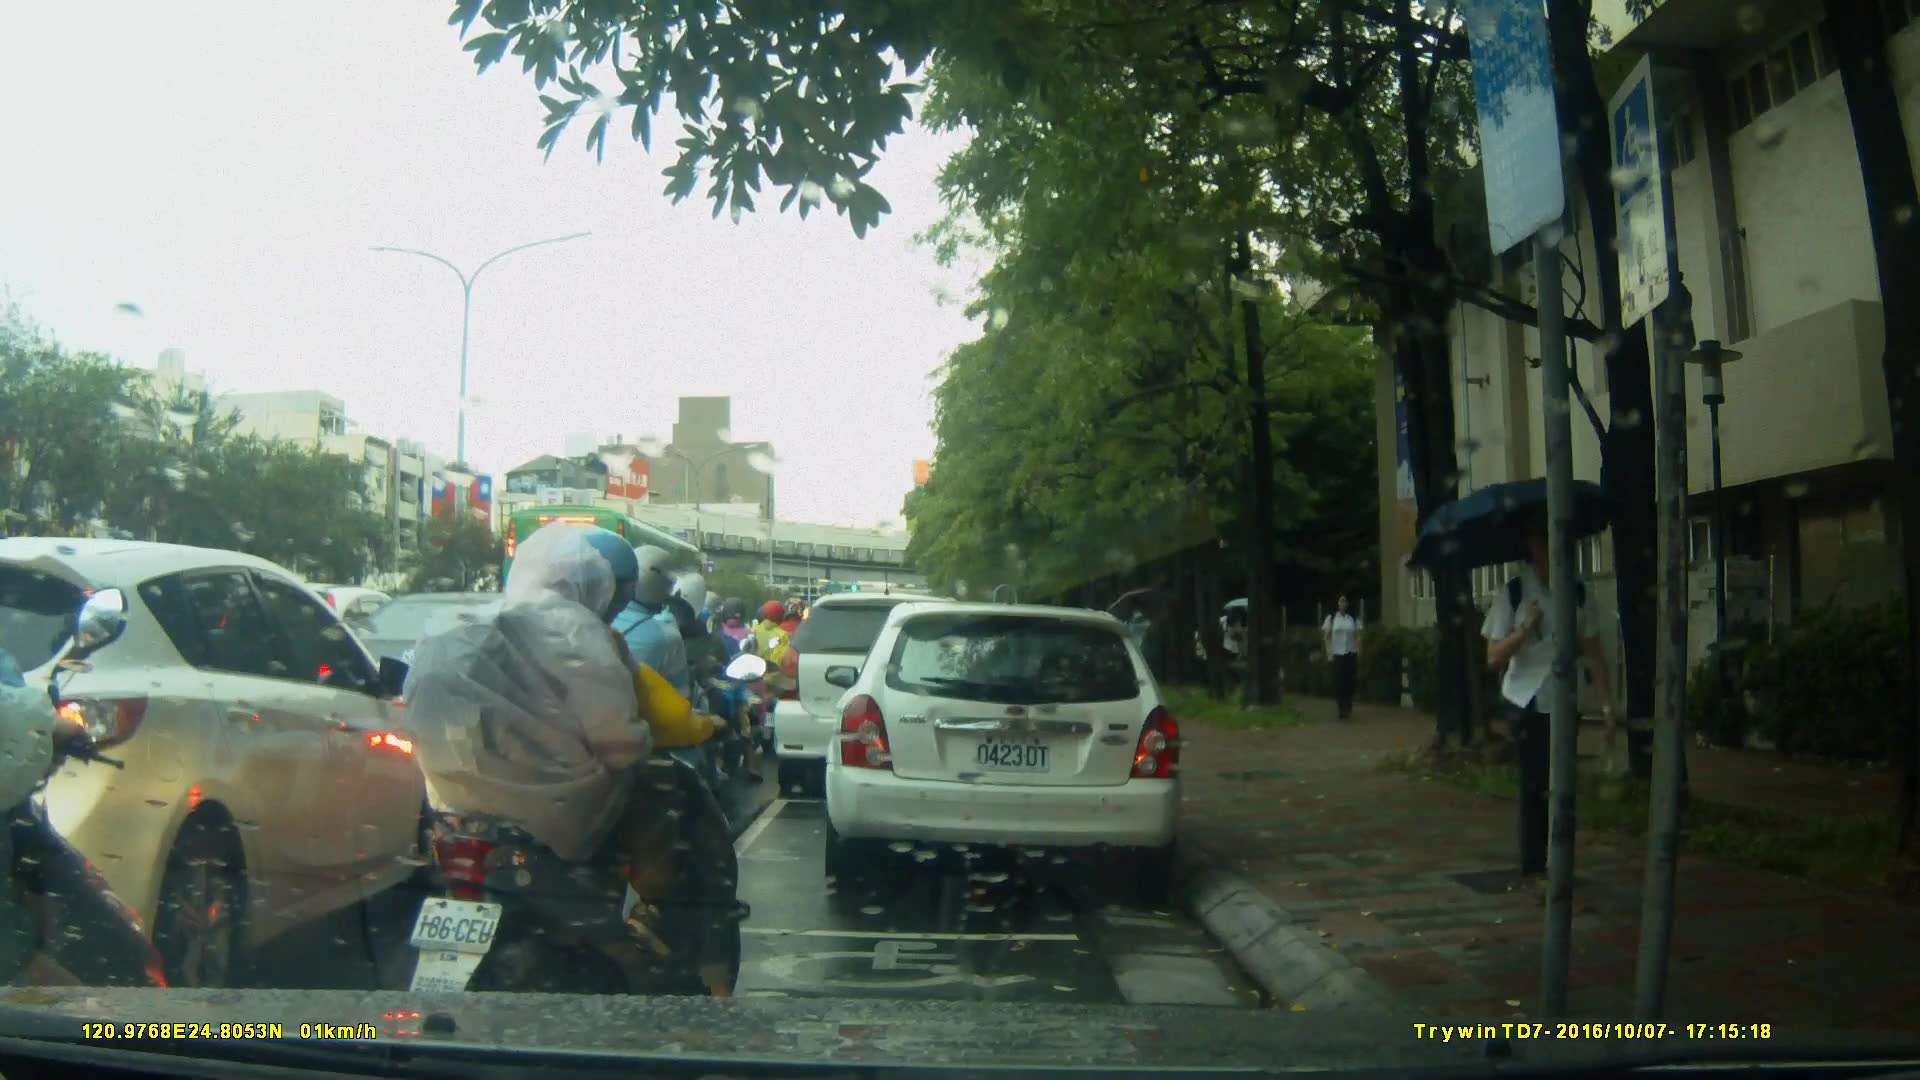pedestrian: (1482, 529, 1637, 893), (1315, 591, 1369, 723), (1119, 595, 1153, 698)
rider: (393, 514, 753, 1073), (1, 585, 177, 1080), (541, 546, 732, 887), (608, 569, 744, 864), (704, 601, 780, 765), (747, 603, 804, 744)
vehicle: (1, 536, 442, 989), (822, 604, 1186, 880), (774, 595, 995, 802), (506, 502, 726, 669)
